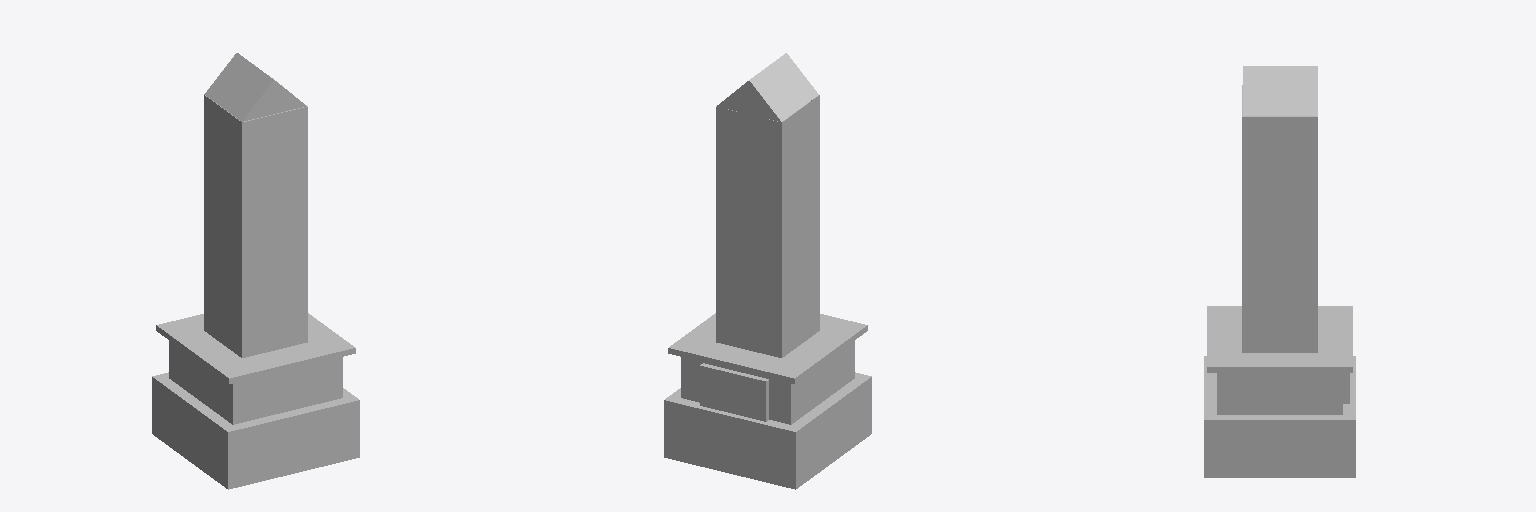
The model's file is obelisk_2.obj.
3 renders of one model, left to right at view 1: azimuth 30°, elevation 25°; view 2: azimuth 150°, elevation 25°; view 3: azimuth 270°, elevation 25°, orthographic.
Parts seen in each view (by area): view 1: cube; view 2: cube; view 3: cube.
Part boxes in pixels (left/top/right/bottom): cube: left=152, top=53, right=359, bottom=489; cube: left=664, top=53, right=871, bottom=489; cube: left=1204, top=66, right=1355, bottom=477.
Bounding box in the file's own units: 0.75 × 2.06 × 0.75.